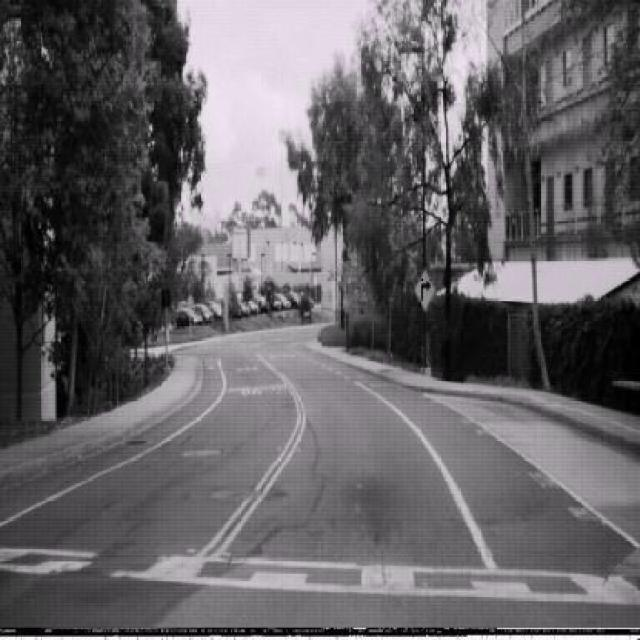turnRight: (414, 268, 435, 311)
